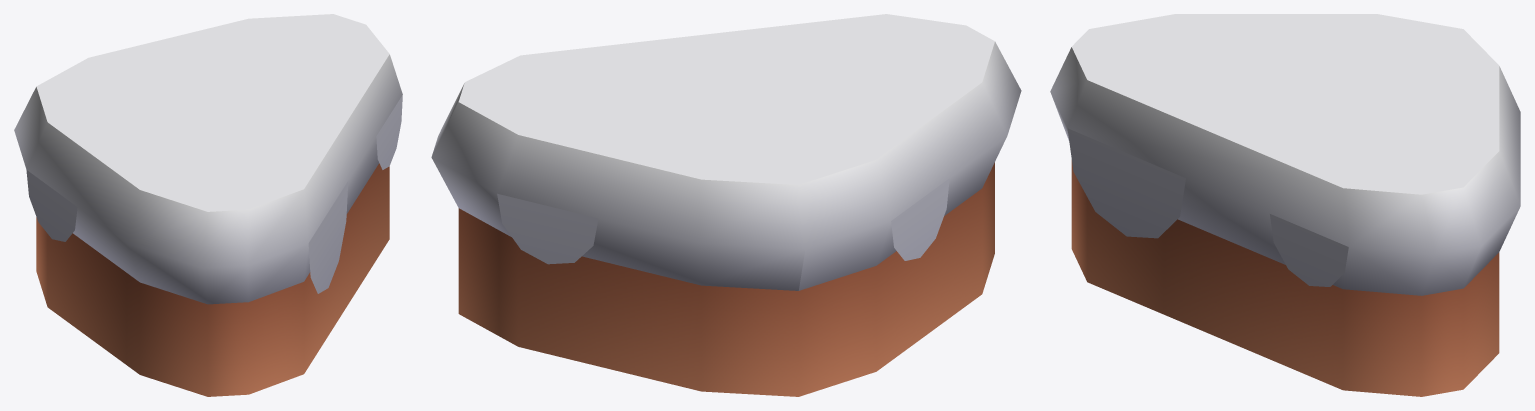
Rendered from block-snow-corner-overhang-low.glb.
3 views of the same model, side by side, from view 1: azimuth 30°, elevation 25°; view 2: azimuth 150°, elevation 25°; view 3: azimuth 270°, elevation 25° (orthographic). The views are drawn at different scales.
Visible parts, largest first — view 1: block-snow-corner-overhang-low; view 2: block-snow-corner-overhang-low; view 3: block-snow-corner-overhang-low.
Boxes of the visible parts, x1,y1,x2,y2 form: block-snow-corner-overhang-low: (14, 14, 402, 396); block-snow-corner-overhang-low: (431, 14, 1021, 396); block-snow-corner-overhang-low: (1050, 14, 1520, 396).
Bounding box in the file's own units: 1.05 × 0.5 × 1.05.
1 material, 1 textured.
